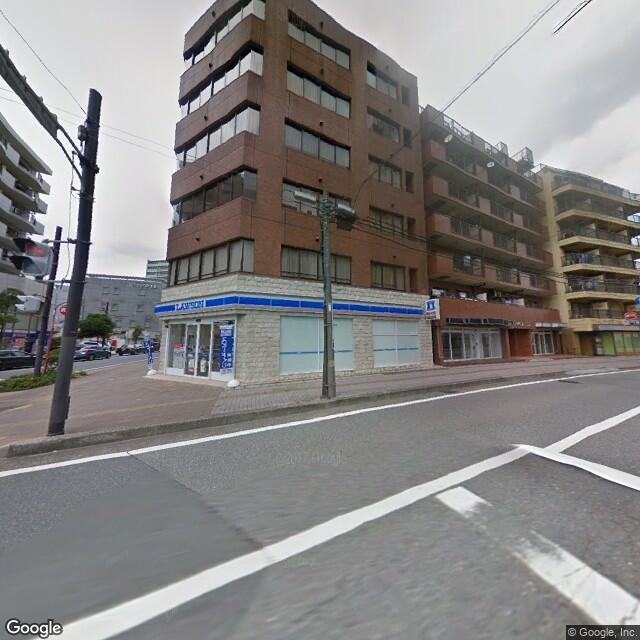lawson: (151, 293, 424, 324), (421, 296, 440, 314)
